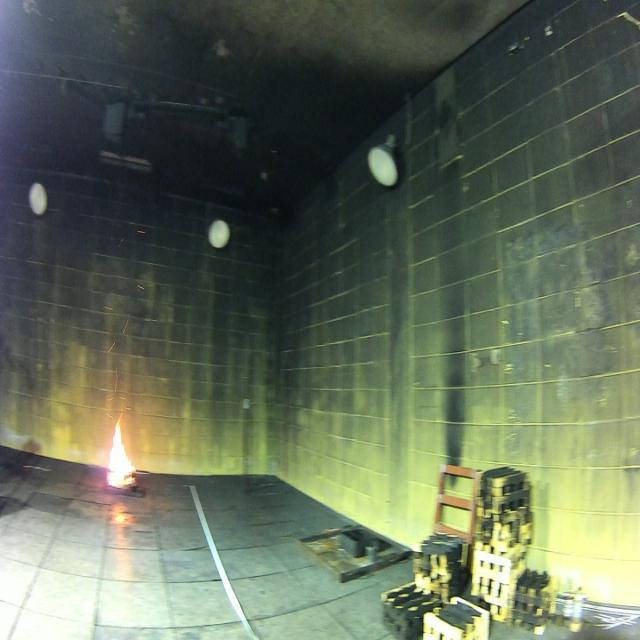Fire: (108, 412, 136, 487)
